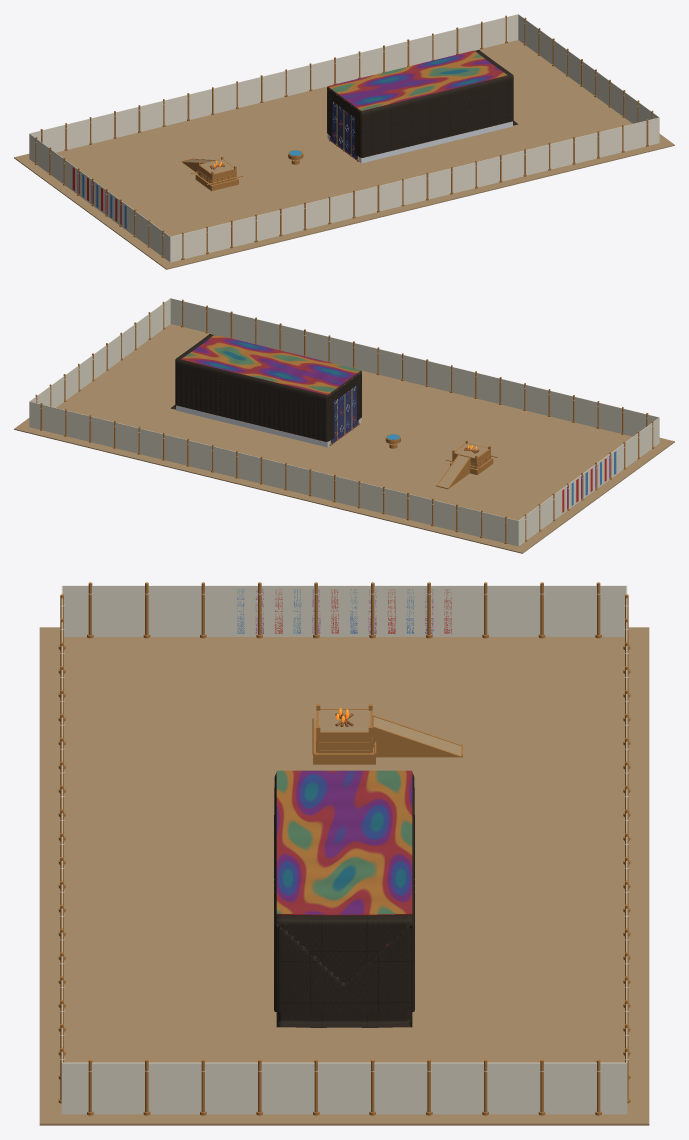
Rendered from tabernacle_covered.glb.
3 views of the same model, one above another, from view 1: azimuth 30°, elevation 25°; view 2: azimuth 150°, elevation 25°; view 3: azimuth 270°, elevation 25° (orthographic). The views are drawn at different scales.
Parts seen in each view (by area): view 1: קרקע החצר, מכסה עורות תחשים, יריעת עיזים 01 – מחברת 1, קלע מזרח צפון, מסך שער החצר, קלע מזרח דרום, יריעת עיזים 02 – מחברת 1, מסך פתח אוהל מועד, יריעת עיזים 07 – מחברת 2, יריעת עיזים 05 – מחברת 1, יריעת עיזים 04 – מחברת 1, יריעת עיזים 06 – מחברת 1 (+44 smaller); view 2: קרקע החצר, מכסה עורות תחשים, יריעת עיזים 01 – מחברת 1, קלע מזרח דרום, מסך שער החצר, קלע מזרח צפון, יריעת עיזים 02 – מחברת 1, מסך פתח אוהל מועד, יריעת עיזים 07 – מחברת 2, יריעת עיזים 05 – מחברת 1, יריעת עיזים 04 – מחברת 1, יריעת עיזים 06 – מחברת 1 (+45 smaller); view 3: קרקע החצר, מכסה עורות תחשים, מסך שער החצר, יריעת עיזים 09 – מחברת 2, קלע מזרח צפון, קלע מזרח דרום, יריעת עיזים 10 – מחברת 2, קלע מערב 01, קלע מערב 03, קלע מערב 08, קלע מערב 10, קלע מערב 05 (+11 smaller).
Part boxes in pixels (x1,y1,x2,y2): קרקע החצר: (14,40,674,269); מכסה עורות תחשים: (328,50,507,110); יריעת עיזים 01 – מחברת 1: (327,87,371,157); קלע מזרח צפון: (128,206,170,262); מסך שער החצר: (71,165,127,230); קלע מזרח דרום: (29,133,71,189); יריעת עיזים 02 – מחברת 1: (371,104,391,155); מסך פתח אוהל מועד: (330,90,357,160); יריעת עיזים 07 – מחברת 2: (469,80,488,131); יריעת עיזים 05 – מחברת 1: (430,90,449,141); יריעת עיזים 04 – מחברת 1: (410,94,430,145); יריעת עיזים 06 – מחברת 1: (449,85,469,136); קרקע החצר: (14,324,674,553); מכסה עורות תחשים: (181,334,360,394); יריעת עיזים 01 – מחברת 1: (317,371,361,441); קלע מזרח דרום: (518,490,560,546); מסך שער החצר: (561,449,617,514); קלע מזרח צפון: (617,417,659,473); יריעת עיזים 02 – מחברת 1: (297,388,317,439); מסך פתח אוהל מועד: (331,375,358,444); יריעת עיזים 07 – מחברת 2: (200,364,219,415); יריעת עיזים 05 – מחברת 1: (239,374,258,425); יריעת עיזים 04 – מחברת 1: (258,378,278,429); יריעת עיזים 06 – מחברת 1: (219,369,239,420); קרקע החצר: (39,627,649,1125); מכסה עורות תחשים: (276,770,412,914); מסך שער החצר: (231,585,457,636); יריעת עיזים 09 – מחברת 2: (274,915,414,1013); קלע מזרח צפון: (62,585,231,636); קלע מזרח דרום: (457,585,626,636); יריעת עיזים 10 – מחברת 2: (276,951,412,1013); קלע מערב 01: (62,1062,118,1114); קלע מערב 03: (175,1062,231,1114); קלע מערב 08: (457,1062,513,1114); קלע מערב 10: (570,1062,626,1114); קלע מערב 05: (288,1062,344,1114).
Bounding box in the file's own units: 52 × 5.22 × 27.
Materials: 25 (4 with a texture image).
